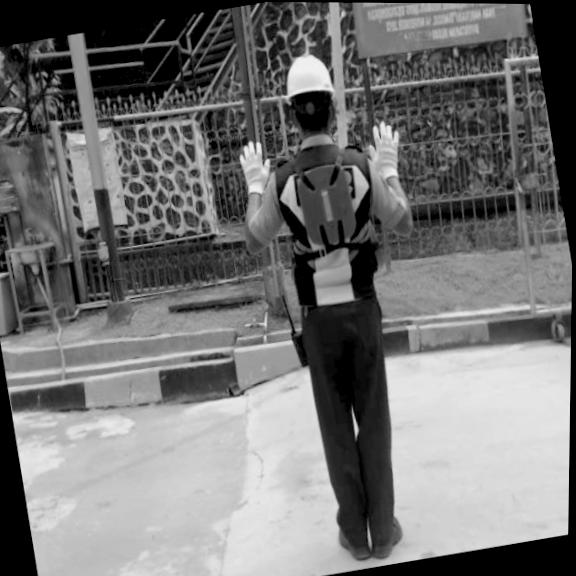safety_vest: (290, 157, 360, 252)
